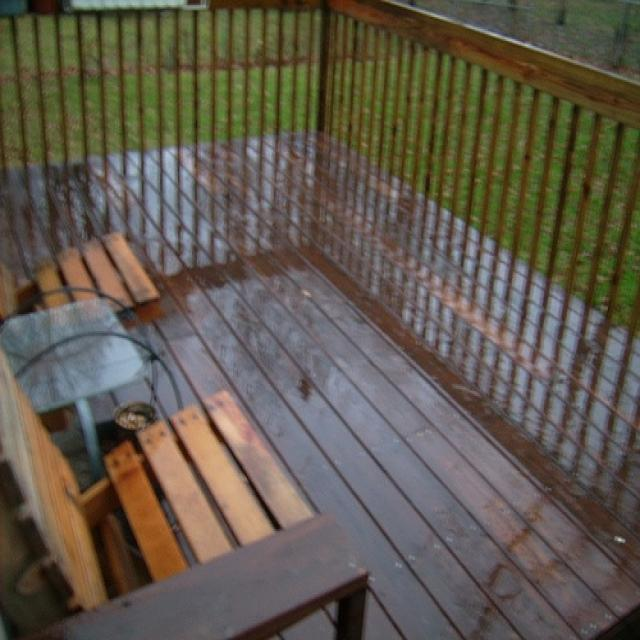chair: (0, 350, 371, 638), (0, 229, 160, 314)
